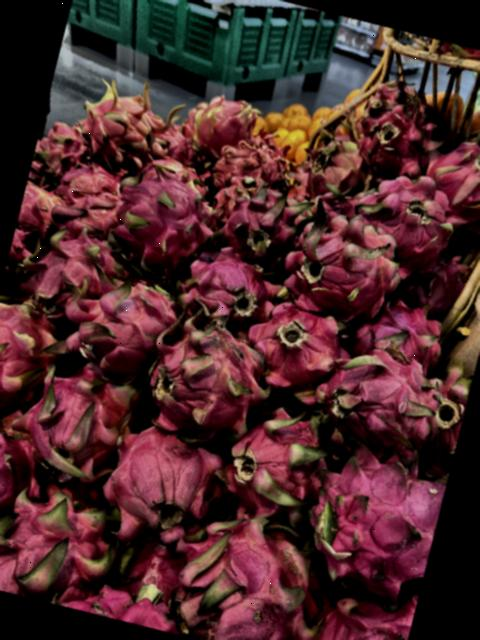buah-naga-belum-matang: (64, 78, 179, 174), (171, 80, 266, 164), (8, 173, 72, 268)
buah-naga-matang: (285, 421, 454, 611), (131, 296, 286, 450), (158, 511, 339, 640), (82, 408, 242, 552), (277, 194, 420, 338), (2, 356, 143, 494), (203, 397, 339, 539), (0, 471, 122, 614), (317, 349, 454, 473), (58, 273, 181, 392), (346, 169, 464, 285), (98, 163, 224, 269), (0, 282, 75, 424), (244, 301, 347, 398), (206, 178, 314, 270), (172, 238, 280, 330), (16, 228, 126, 311), (0, 407, 50, 553)
